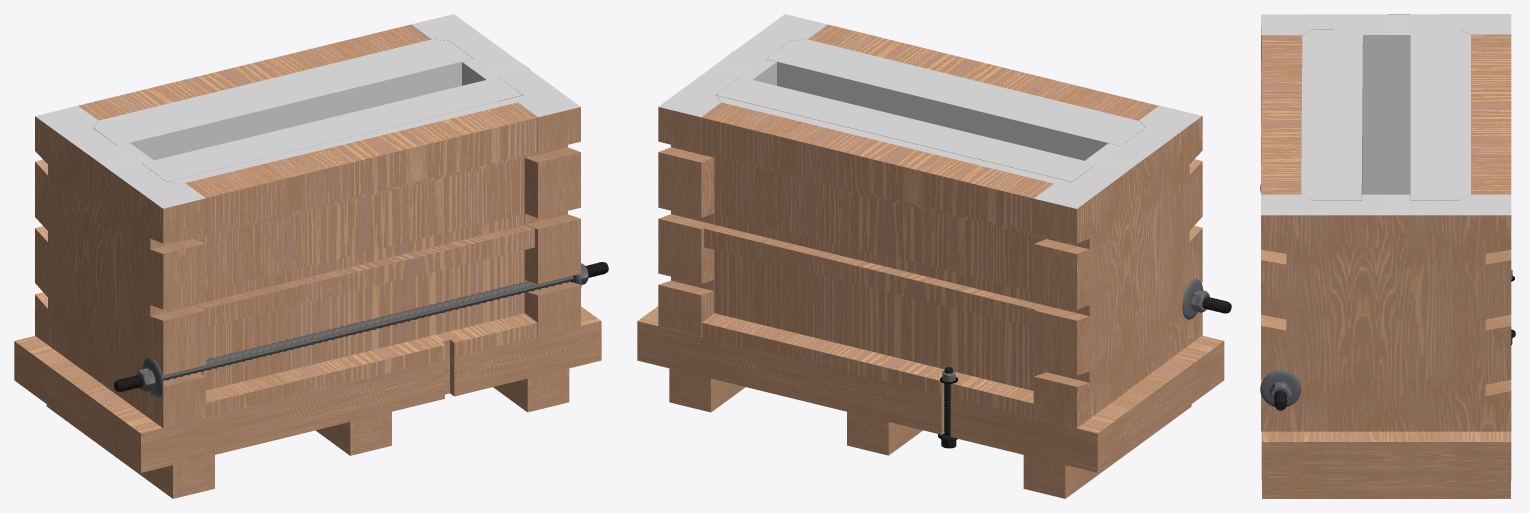
Rendered from Mold.fbx.
3 renders of one model, left to right at view 1: azimuth 30°, elevation 25°; view 2: azimuth 150°, elevation 25°; view 3: azimuth 270°, elevation 25°, orthographic.
Parts seen in each view (by area): view 1: Cube.008, Cube.005, Cube.004, Cube.002, Cube.006, Hex_Head_Flange_Bolt; view 2: Cube.002, Cube.005, Cube.004, Cube.008, Cube.006, Hex_Head_Flange_Bolt; view 3: Cube.006, Cube.004, Cube.002, Cube.008, Cube.005, Hex_Head_Flange_Bolt.
Part boxes in pixels (x1,y1,x2,y2): Cube.008: [142, 77, 537, 417]; Cube.005: [35, 105, 205, 428]; Cube.004: [14, 306, 601, 498]; Cube.002: [78, 24, 473, 160]; Cube.006: [411, 14, 580, 336]; Hex_Head_Flange_Bolt: [114, 262, 608, 398]; Cube.002: [701, 77, 1095, 417]; Cube.005: [1033, 105, 1202, 428]; Cube.004: [637, 306, 1224, 498]; Cube.008: [765, 24, 1158, 160]; Cube.006: [658, 14, 827, 336]; Hex_Head_Flange_Bolt: [1182, 279, 1231, 319]; Cube.006: [1261, 194, 1511, 431]; Cube.004: [1261, 431, 1511, 498]; Cube.002: [1410, 29, 1511, 200]; Cube.008: [1261, 29, 1362, 200]; Cube.005: [1261, 14, 1511, 200]; Hex_Head_Flange_Bolt: [1260, 184, 1301, 410].
Bounding box in the file's own units: 4.68 × 2.68 × 2.14.
